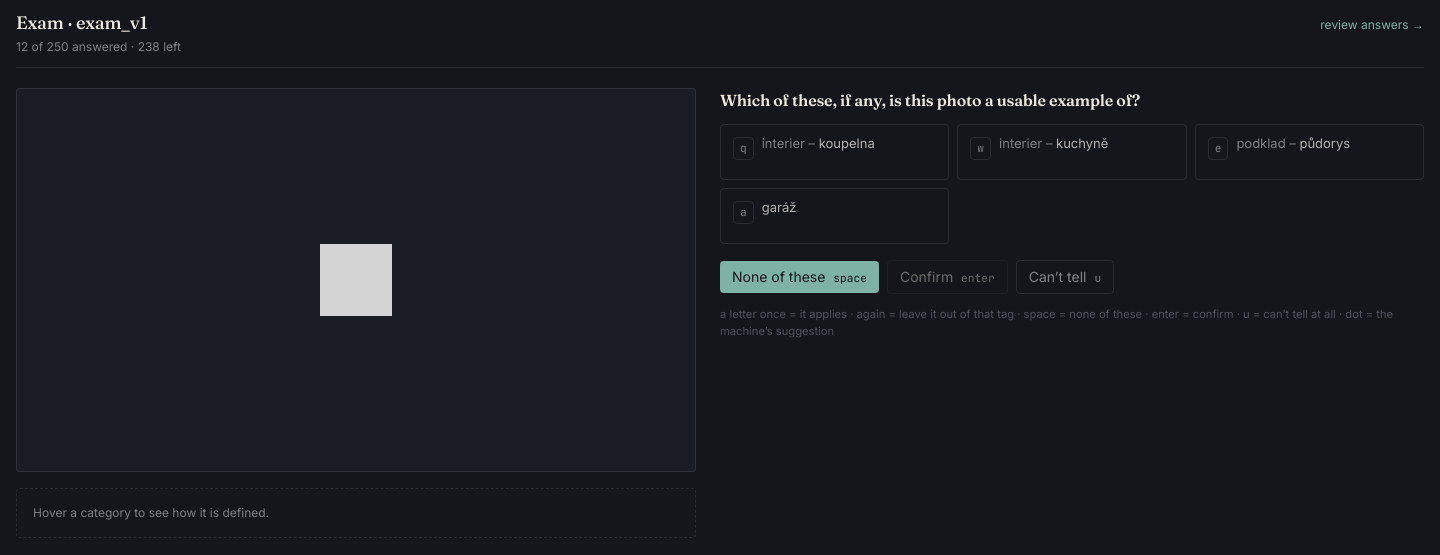
<NewDedupExam> › a third press clears the tag back to untouched
Check: the heading "Which of these, if any, is this photo a usable example of?" is shown, box [720,90,1140,110]
Click the button with aria-label "interier - kuchyně": (1072, 152) [957,124,1187,180]
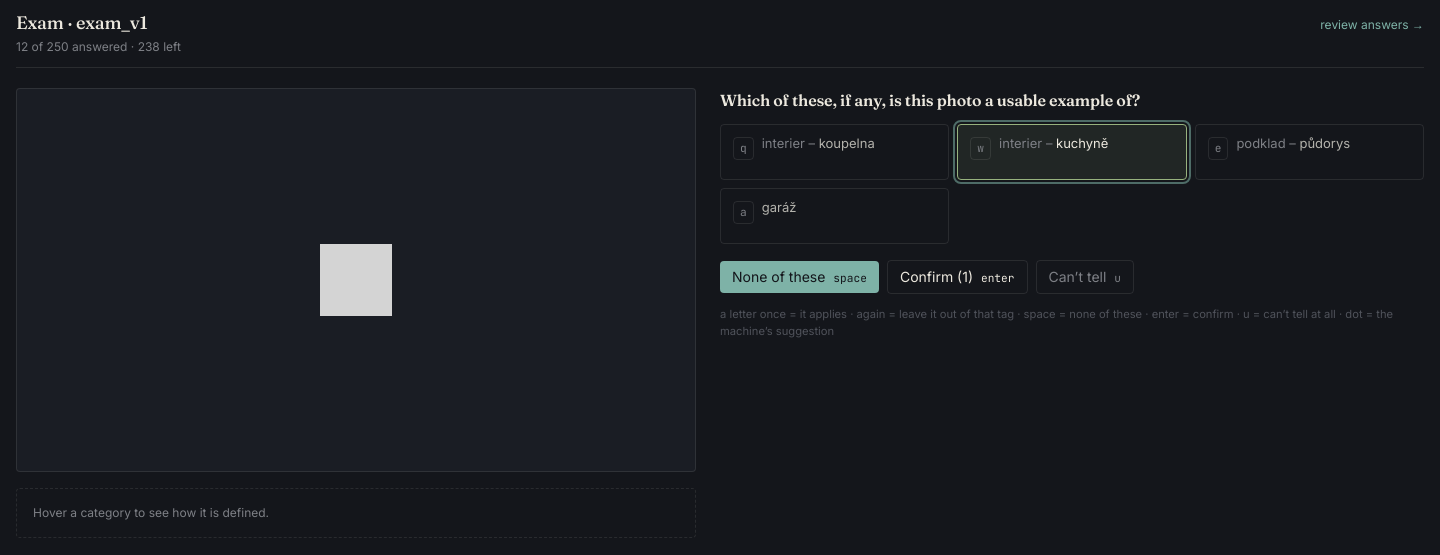
Click the button with aria-label "interier - kuchyně": (1072, 152) [957,124,1187,180]
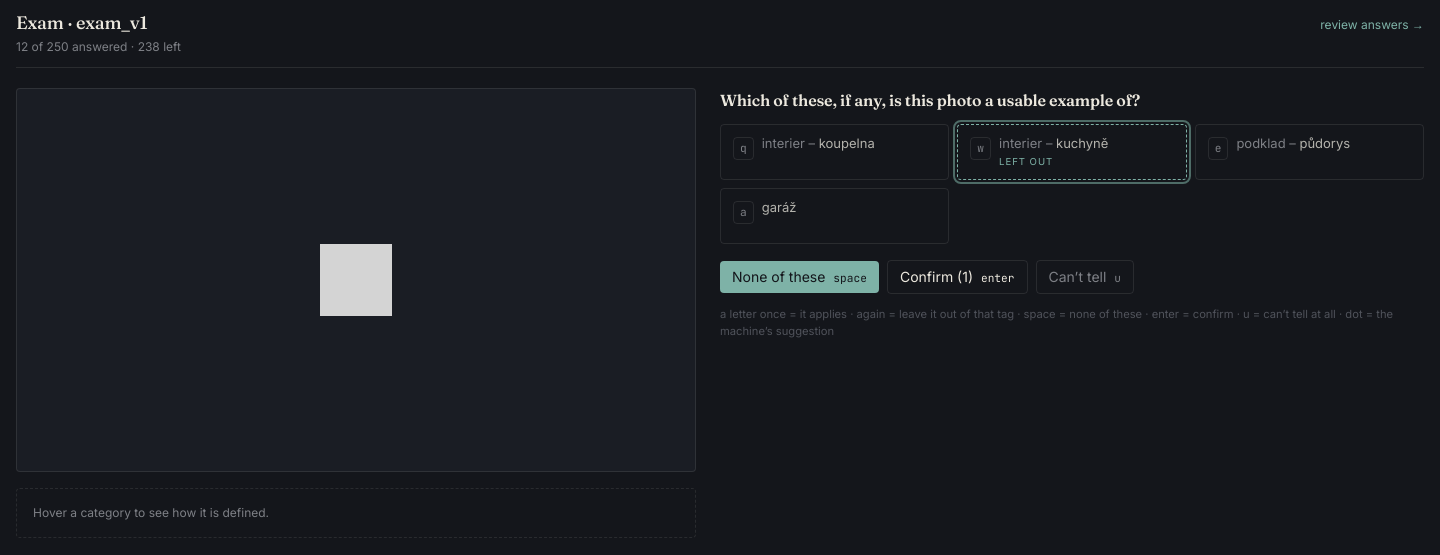
Click the button with aria-label "interier - kuchyně": (1072, 152) [957,124,1187,180]
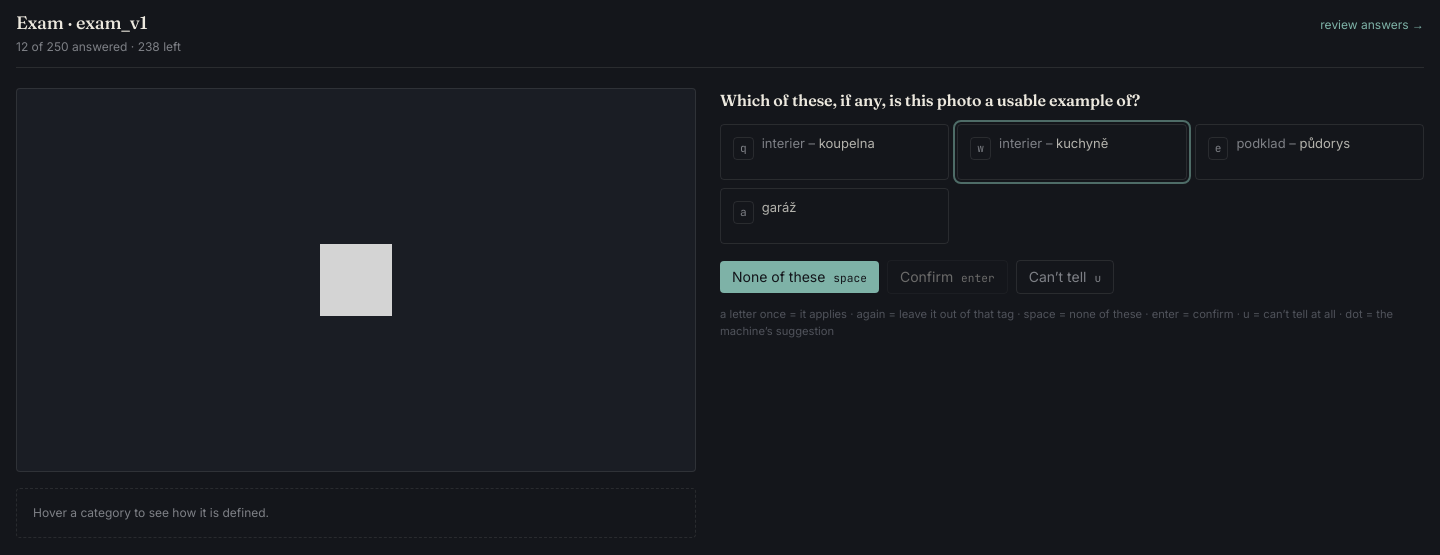
Check: the text "left out" is gone
Check: the button "Confirm enter" is disabled, box [887,260,1008,294]
